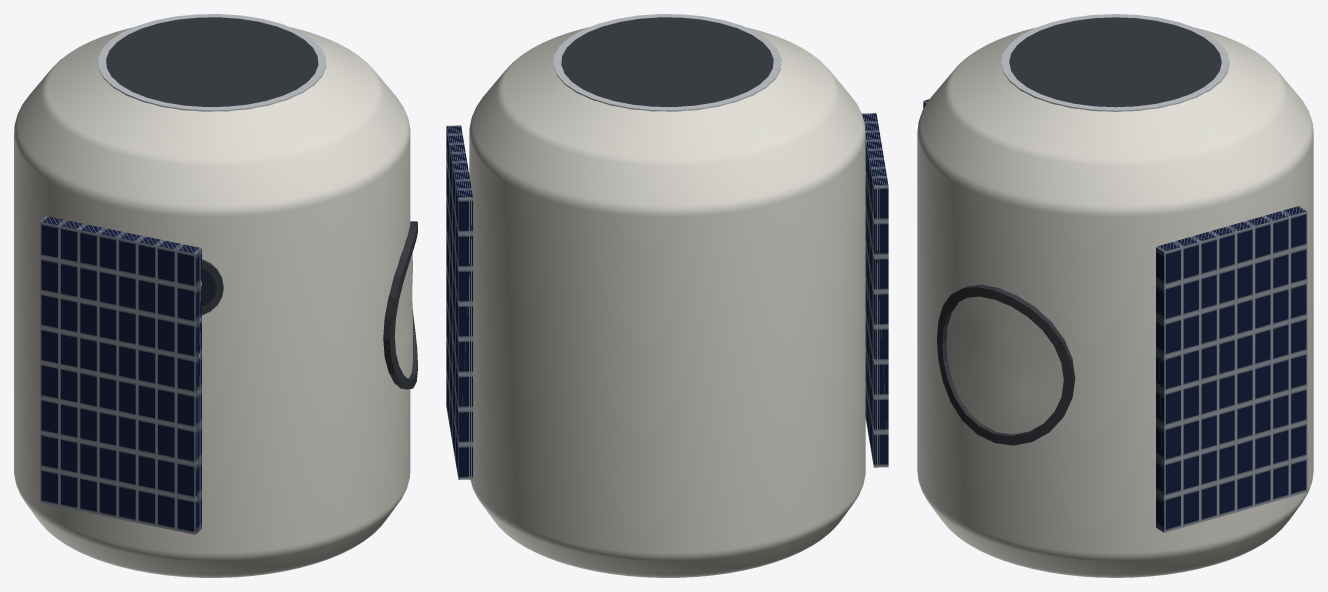
Rendered from shenzhou_orbital_module.glb.
3 renders of one model, left to right at view 1: azimuth 30°, elevation 25°; view 2: azimuth 150°, elevation 25°; view 3: azimuth 270°, elevation 25°, orthographic.
Parts seen in each view (by area): view 1: body; view 2: body; view 3: body.
Boxes of the visible parts, box(x1,y1,x2,y2) form: body: box(14, 14, 417, 577); body: box(446, 14, 888, 577); body: box(917, 14, 1313, 577).
Bounding box in the file's own units: 1.84 × 2.09 × 1.6.
Materials: 10 (1 with a texture image).
